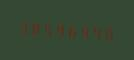eight: (29, 17, 40, 38)
five: (41, 18, 52, 38)
four: (89, 21, 100, 42)
nine: (77, 20, 88, 41), (53, 19, 64, 39)
six: (65, 19, 76, 40)
three: (17, 16, 28, 37)
zero: (101, 22, 112, 43)
